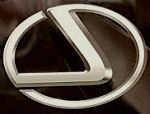Lexus: (1, 1, 148, 113)
